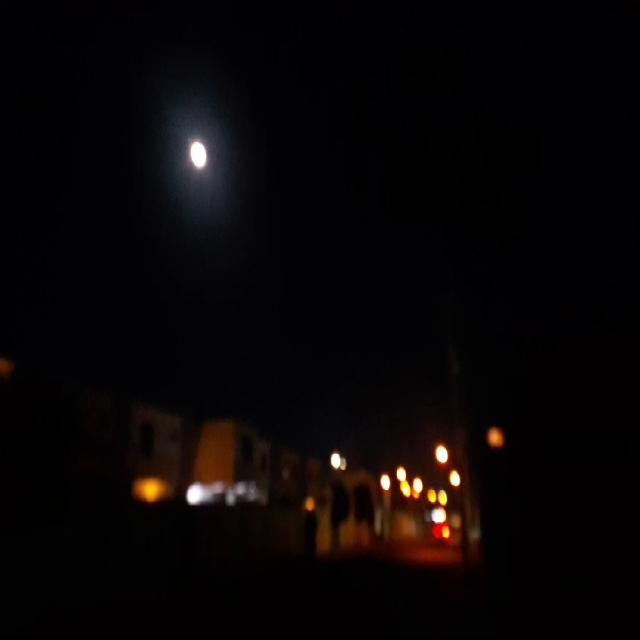moon: (194, 144, 214, 178)
